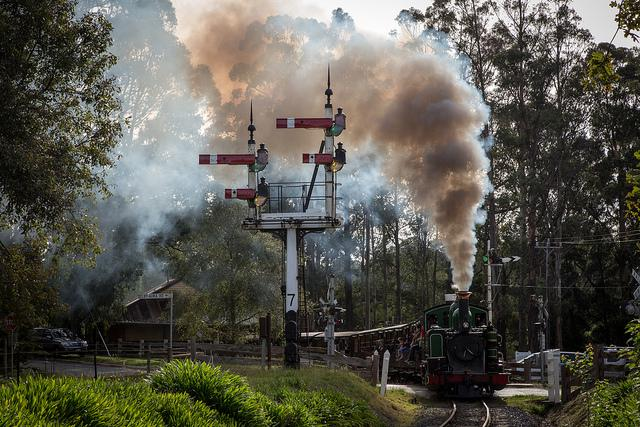Train: (301, 293, 511, 399)
